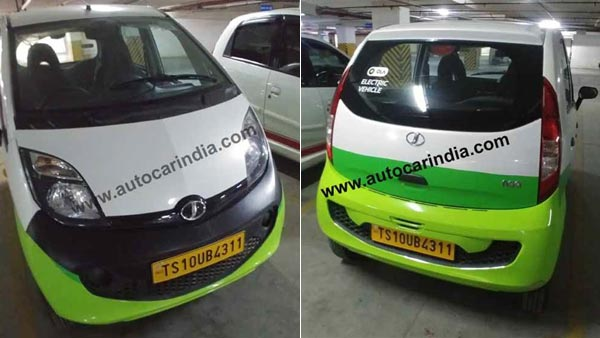Nano: (1, 4, 287, 331), (316, 18, 592, 309)
